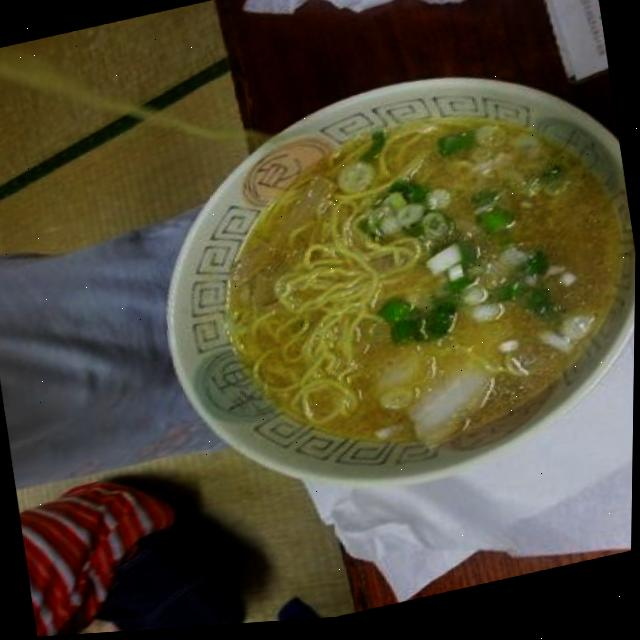面条主食: (131, 41, 639, 541)
